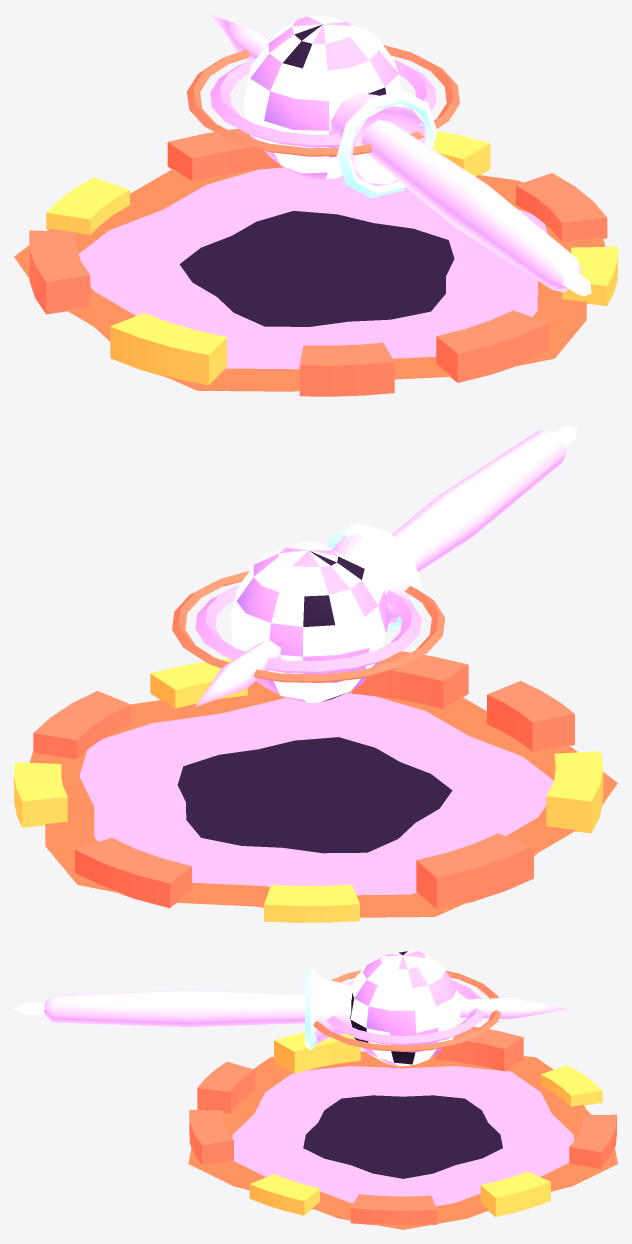
The model's file is gamma_ray_burst.glb.
3 views of the same model, one above another, from view 1: azimuth 30°, elevation 25°; view 2: azimuth 150°, elevation 25°; view 3: azimuth 270°, elevation 25° (orthographic). The views are drawn at different scales.
Visible parts, largest first — view 1: body, head; view 2: body, head; view 3: body, head.
Boxes of the visible parts, x1,y1,x2,y2 form: body: [14, 128, 617, 396]; head: [187, 14, 591, 296]; body: [14, 651, 617, 922]; head: [172, 425, 576, 706]; body: [188, 1024, 617, 1229]; head: [14, 951, 567, 1066].
Bounding box in the file's own units: 180 × 81.7 × 248.
